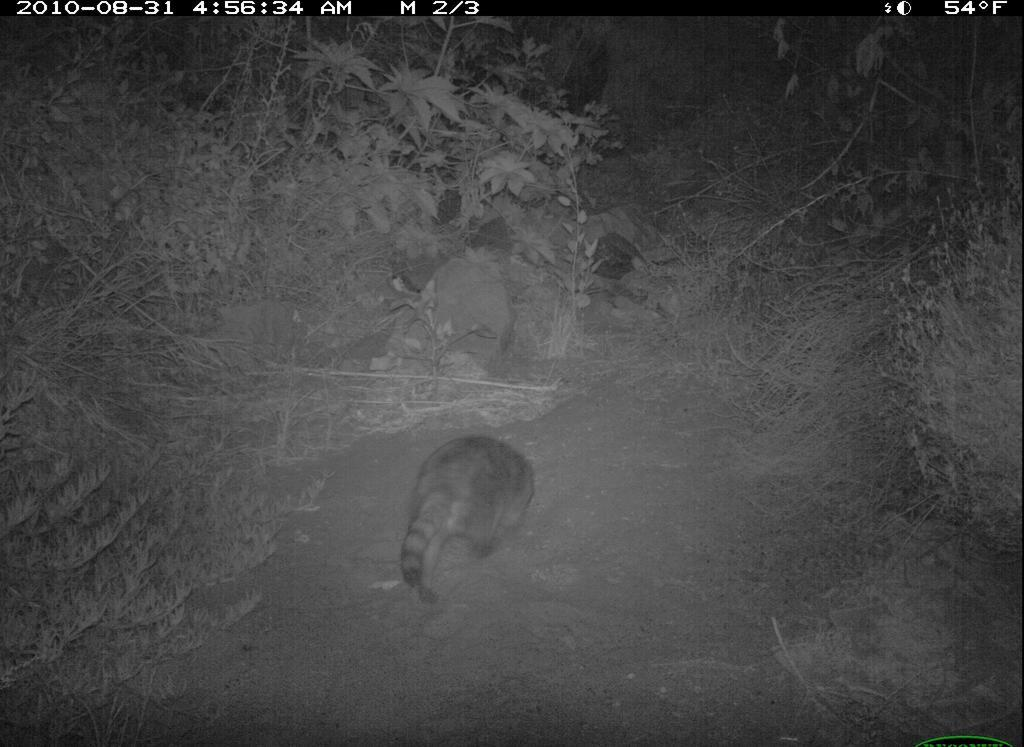raccoon: (396, 427, 547, 607)
